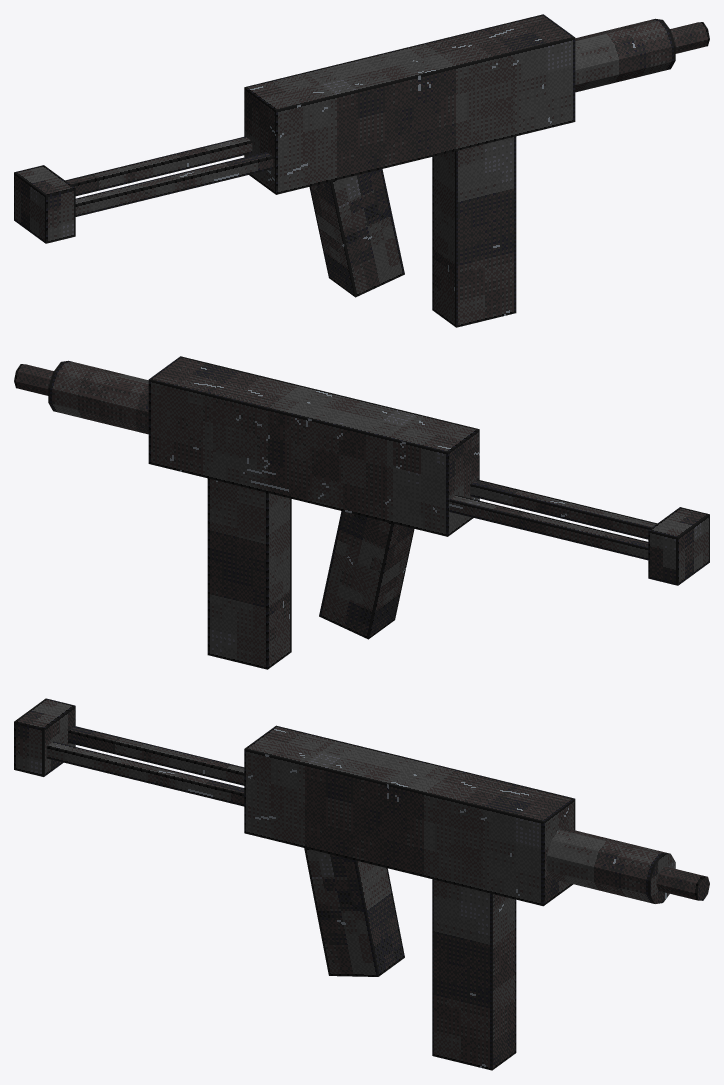
Rendered from SM_SMG_01.glb.
The picture shows the model from 3 angles, top to bottom: view 1: azimuth 30°, elevation 25°; view 2: azimuth 150°, elevation 25°; view 3: azimuth 330°, elevation 25°; orthographic projection.
Visible parts, largest first — view 1: SM_SMG_01; view 2: SM_SMG_01; view 3: SM_SMG_01.
Part boxes in pixels (left/top/right/bottom): SM_SMG_01: left=14, top=14, right=709, bottom=327; SM_SMG_01: left=14, top=356, right=709, bottom=669; SM_SMG_01: left=14, top=698, right=709, bottom=1070.
Size of the model in its own units: 0.585 by 0.22 by 0.048.
Materials: 1 (1 with a texture image).
